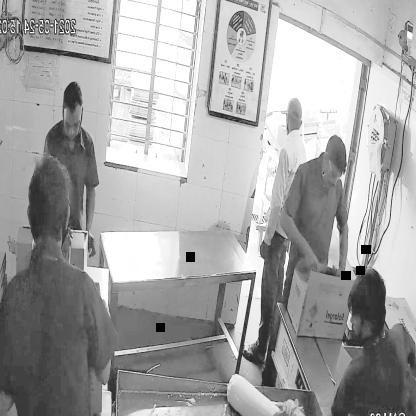goggles: (324, 163, 346, 183)
